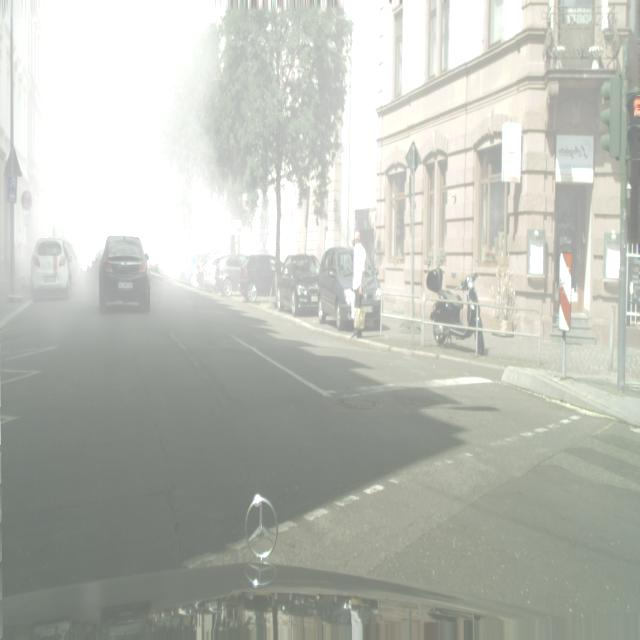bus: (352, 230, 367, 333)
motorcycle: (429, 264, 486, 356)
person: (318, 246, 383, 330), (98, 236, 151, 313), (276, 253, 320, 315), (30, 238, 73, 301), (239, 254, 276, 301), (214, 254, 247, 298), (188, 250, 218, 288), (202, 252, 227, 291), (172, 252, 191, 280), (180, 252, 197, 282)
